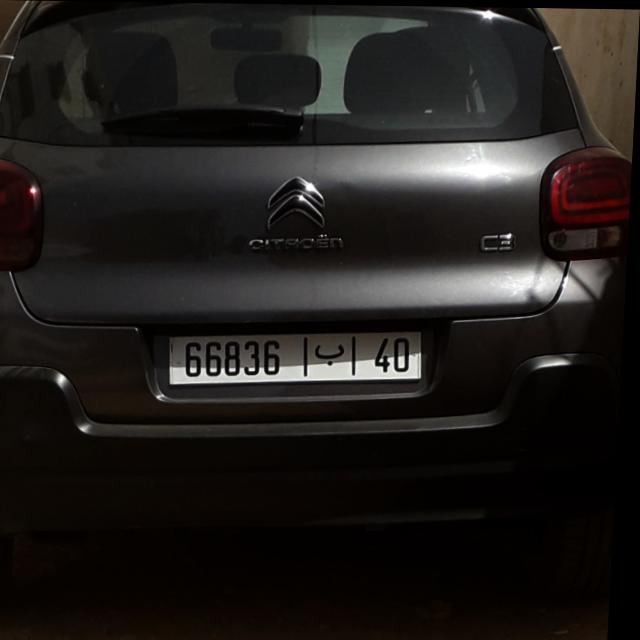License-Plate: (173, 330, 426, 384)
